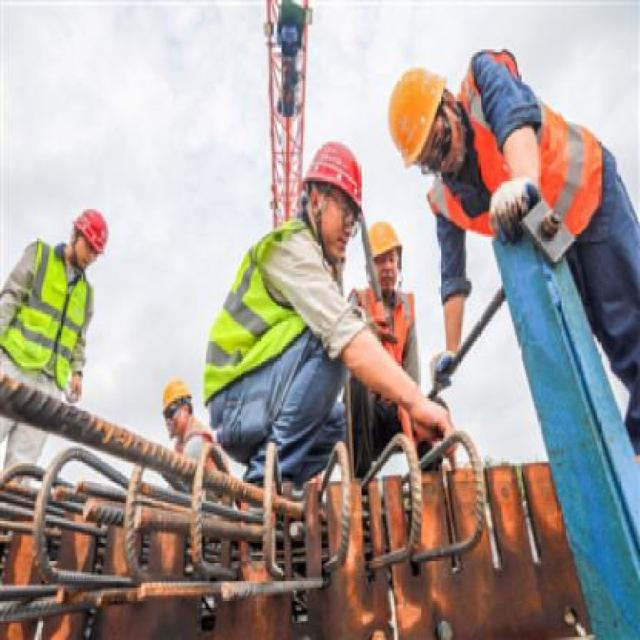Gloves: (488, 176, 550, 247), (426, 349, 462, 392)
Vest: (192, 215, 347, 398), (457, 60, 597, 254), (0, 244, 100, 398), (343, 286, 425, 373), (167, 418, 225, 470)
helmet: (384, 66, 448, 172), (299, 135, 372, 199), (74, 201, 110, 254), (158, 374, 197, 413), (363, 217, 397, 257)
person: (380, 41, 640, 398), (201, 98, 364, 492), (0, 196, 110, 497), (339, 215, 440, 469), (153, 371, 231, 500)
